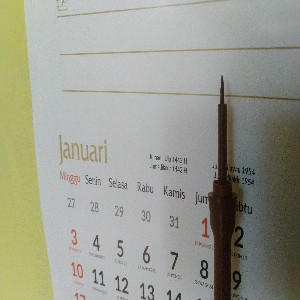solder: (207, 74, 238, 300)
